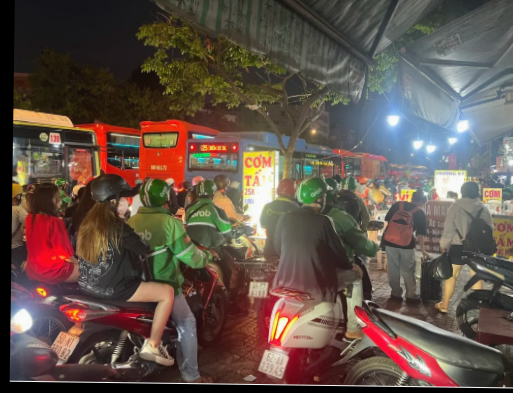Bien-so: (246, 347, 282, 378), (39, 342, 69, 376), (231, 282, 253, 301)
